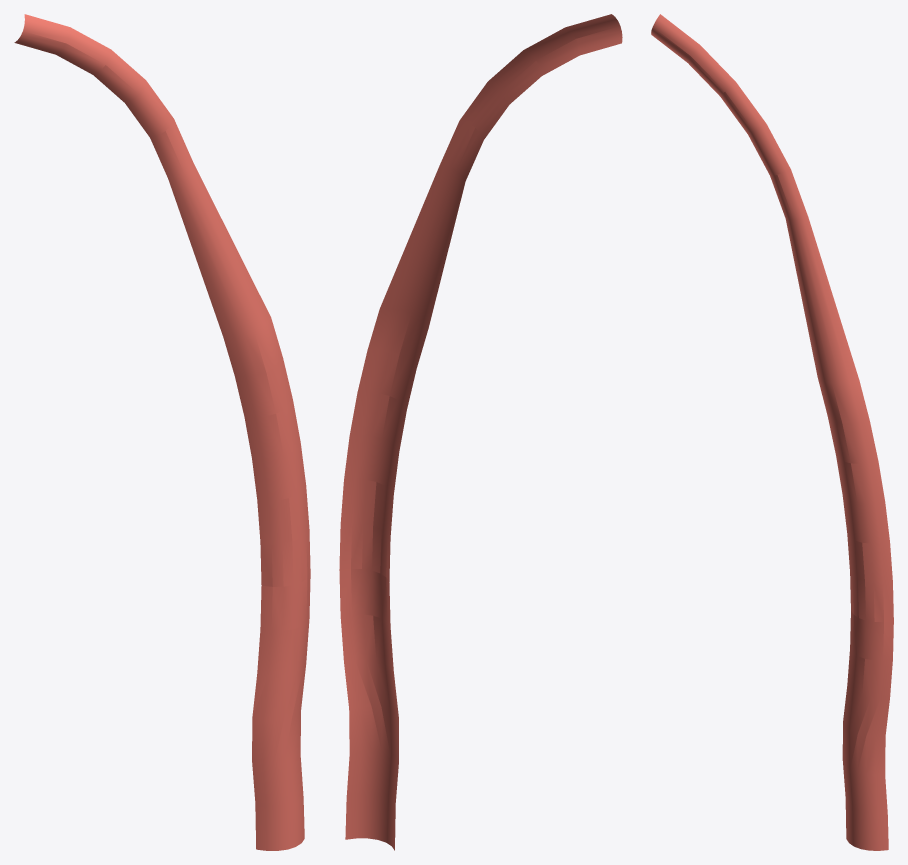
The model's file is esophagusColliderBottom.FBX.
3 views of the same model, side by side, from view 1: azimuth 30°, elevation 25°; view 2: azimuth 150°, elevation 25°; view 3: azimuth 330°, elevation 25° (orthographic). The views are drawn at different scales.
Visible parts, largest first — view 1: Mesh027; view 2: Mesh027; view 3: Mesh027.
Boxes of the visible parts, x1,y1,x2,y2 form: Mesh027: [14, 14, 310, 850]; Mesh027: [339, 14, 622, 850]; Mesh027: [651, 14, 893, 850].
Bounding box in the file's own units: 22.43 × 66.05 × 2.27.
